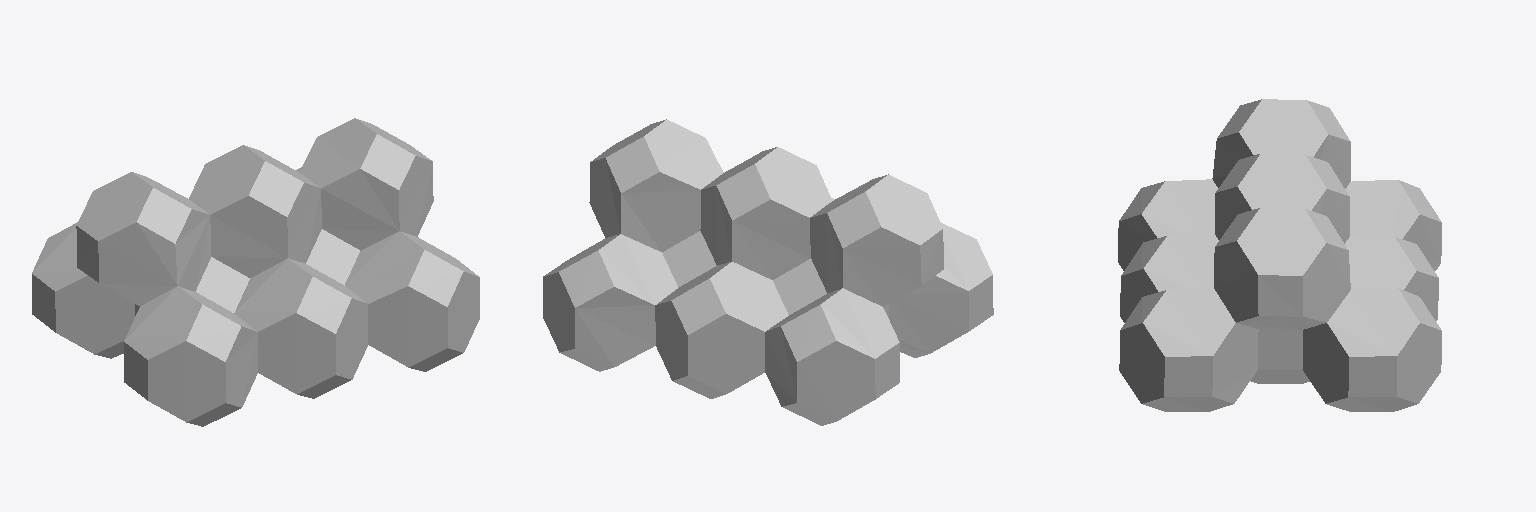
Rendered from fcc11.obj.
3 views of the same model, side by side, from view 1: azimuth 30°, elevation 25°; view 2: azimuth 150°, elevation 25°; view 3: azimuth 270°, elevation 25° (orthographic).
Visible parts, largest first — view 1: Obj2.005_Mesh2.005, Obj4.002_Mesh4.002, Obj2.002_Mesh2.002, Obj2.001_Mesh2.001, Obj4.001_Mesh4.001, Obj4_Mesh4, Obj2.004_Mesh2.004, Obj1_Mesh1, Obj3_Mesh3; view 2: Obj2.004_Mesh2.004, Obj4.002_Mesh4.002, Obj2.003_Mesh2.003, Obj2_Mesh2, Obj4.001_Mesh4.001, Obj4_Mesh4, Obj2.005_Mesh2.005, Obj1_Mesh1, Obj3_Mesh3; view 3: Obj4.001_Mesh4.001, Obj2.002_Mesh2.002, Obj2.003_Mesh2.003, Obj4.002_Mesh4.002, Obj4_Mesh4, Obj2.005_Mesh2.005, Obj2.004_Mesh2.004, Obj2.001_Mesh2.001, Obj2_Mesh2, Obj3_Mesh3.
Part boxes in pixels (left/top/right/bottom): Obj2.005_Mesh2.005: left=124, top=286, right=257, bottom=426; Obj4.002_Mesh4.002: left=76, top=172, right=211, bottom=305; Obj2.002_Mesh2.002: left=345, top=231, right=479, bottom=371; Obj2.001_Mesh2.001: left=234, top=258, right=367, bottom=398; Obj4.001_Mesh4.001: left=300, top=118, right=433, bottom=250; Obj4_Mesh4: left=189, top=145, right=321, bottom=277; Obj2.004_Mesh2.004: left=32, top=222, right=134, bottom=358; Obj1_Mesh1: left=135, top=257, right=249, bottom=315; Obj3_Mesh3: left=306, top=229, right=359, bottom=285; Obj2.004_Mesh2.004: left=765, top=288, right=899, bottom=425; Obj4.002_Mesh4.002: left=810, top=174, right=943, bottom=306; Obj2.003_Mesh2.003: left=543, top=234, right=677, bottom=371; Obj2_Mesh2: left=655, top=262, right=788, bottom=398; Obj4.001_Mesh4.001: left=589, top=119, right=723, bottom=251; Obj4_Mesh4: left=700, top=147, right=831, bottom=279; Obj2.005_Mesh2.005: left=889, top=223, right=993, bottom=357; Obj1_Mesh1: left=773, top=259, right=888, bottom=317; Obj3_Mesh3: left=662, top=231, right=716, bottom=287; Obj4.001_Mesh4.001: left=1214, top=208, right=1350, bottom=329; Obj2.002_Mesh2.002: left=1119, top=288, right=1258, bottom=411; Obj2.003_Mesh2.003: left=1303, top=288, right=1441, bottom=411; Obj4.002_Mesh4.002: left=1212, top=99, right=1350, bottom=188; Obj4_Mesh4: left=1215, top=153, right=1349, bottom=243; Obj2.005_Mesh2.005: left=1118, top=179, right=1217, bottom=270; Obj2.004_Mesh2.004: left=1345, top=180, right=1441, bottom=270; Obj2.001_Mesh2.001: left=1120, top=234, right=1218, bottom=322; Obj2_Mesh2: left=1345, top=237, right=1438, bottom=320; Obj3_Mesh3: left=1251, top=329, right=1309, bottom=383.
Bounding box in the file's own units: 3.69 × 2.16 × 3.1.